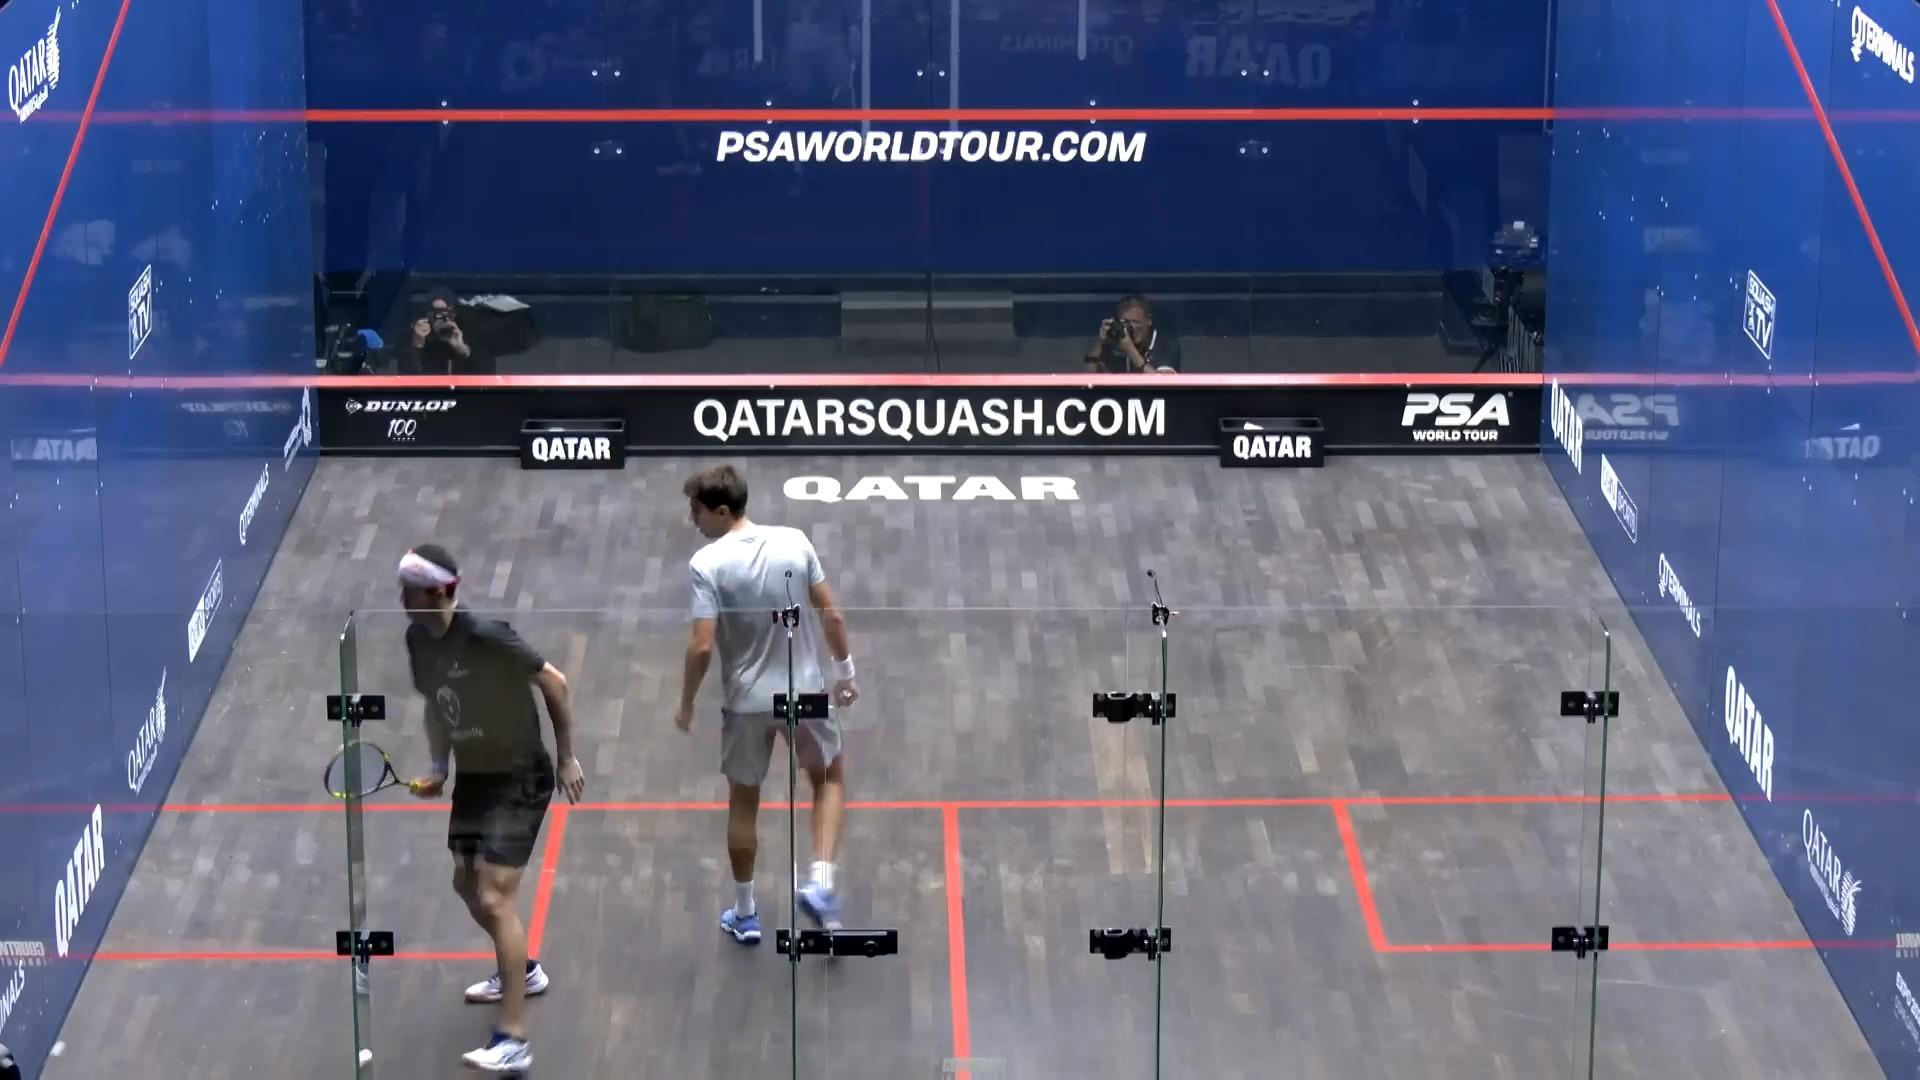Racket: (319, 735, 422, 812)
